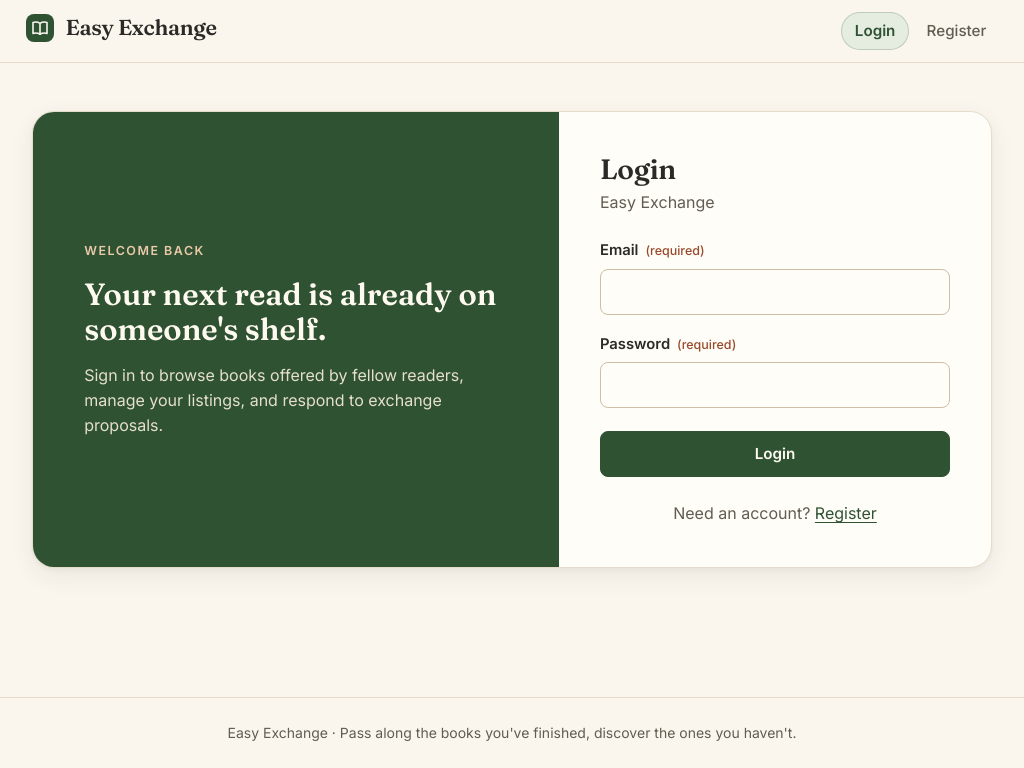
Test case: App authentication › shows login validation errors
This screenshot has width=1024, height=768.
Expected: the heading "Login" is shown, top-left (600, 152), bottom-right (676, 186)
Click the button "Login": (775, 454) top-left (600, 431), bottom-right (950, 477)
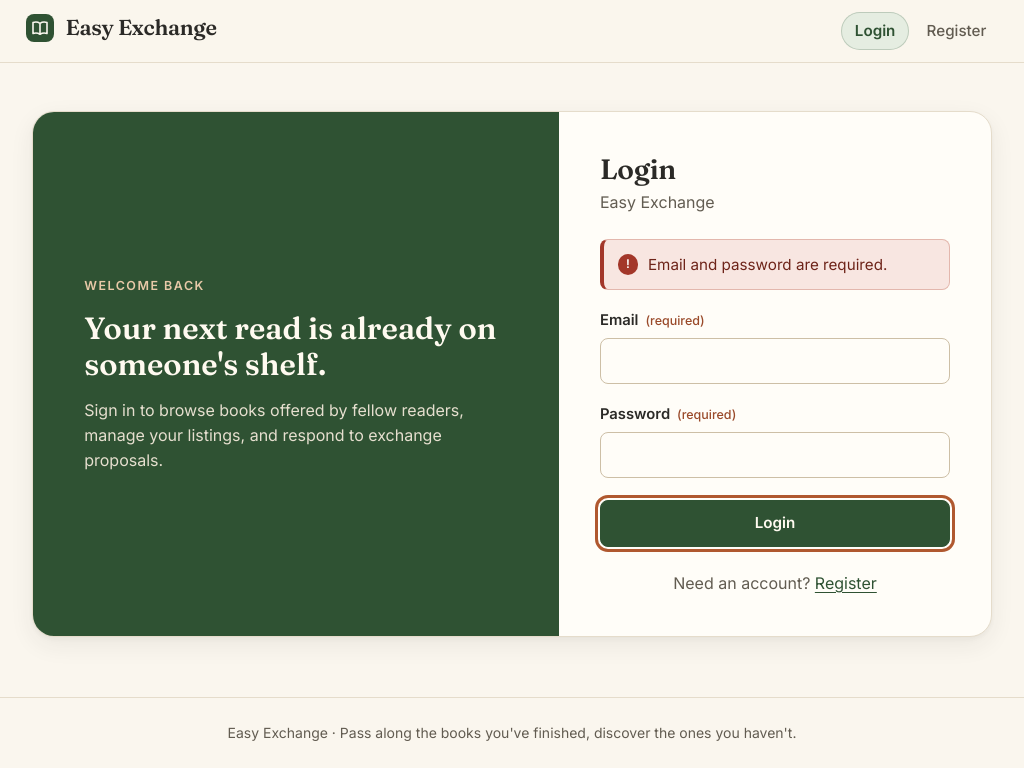
Result: the message shows "required" at top-left (648, 255), bottom-right (887, 274)
